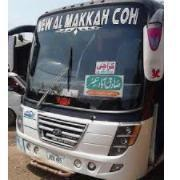bus: (11, 0, 164, 180)
